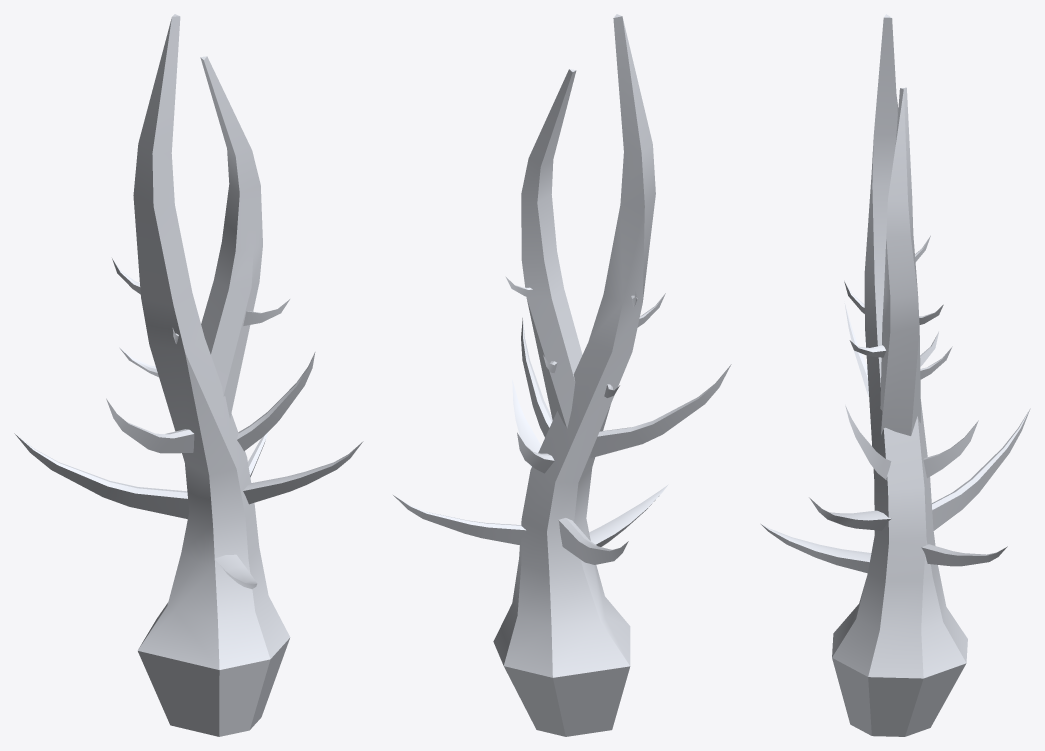
File: tree45fbx.fbx
The picture shows the model from 3 angles, left to right: view 1: azimuth 30°, elevation 25°; view 2: azimuth 150°, elevation 25°; view 3: azimuth 270°, elevation 25°; orthographic projection. The views are drawn at different scales.
Visible parts, largest first — view 1: tree; view 2: tree; view 3: tree.
Part boxes in pixels (x1,y1,x2,y2): tree: (14,14,363,736); tree: (393,14,731,736); tree: (761,14,1030,736).
Size of the model in its own units: 3249 by 8685 by 3115.
1 material, 1 textured.
